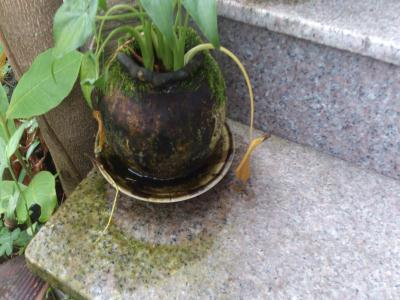plate: (93, 116, 235, 205)
